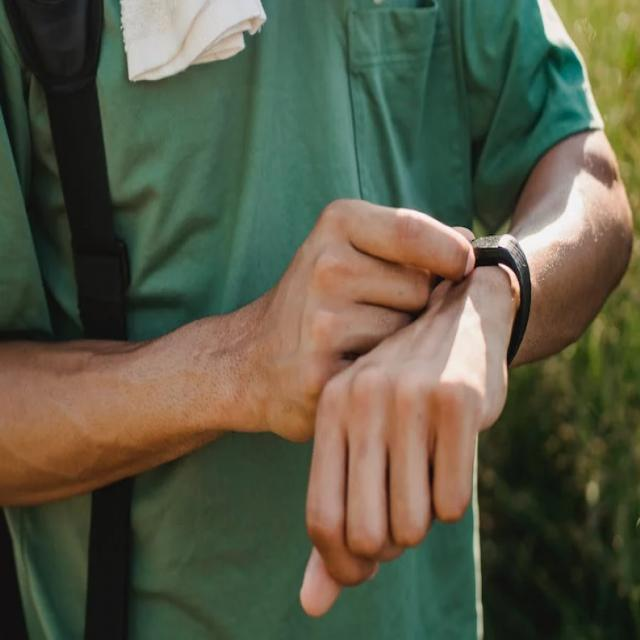Watch: (468, 228, 534, 358)
